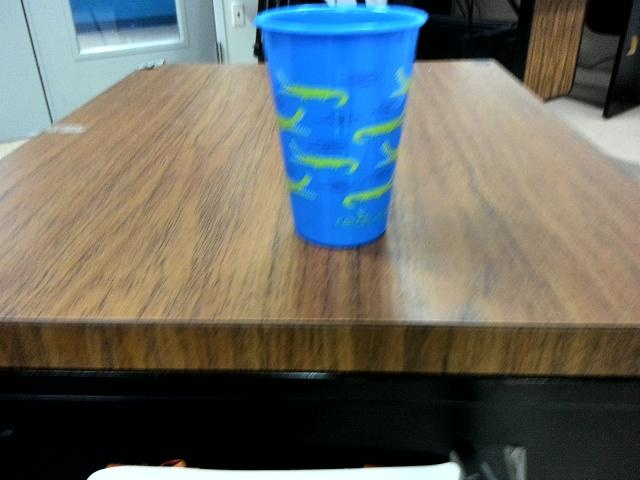water_cup: (250, 2, 433, 259)
